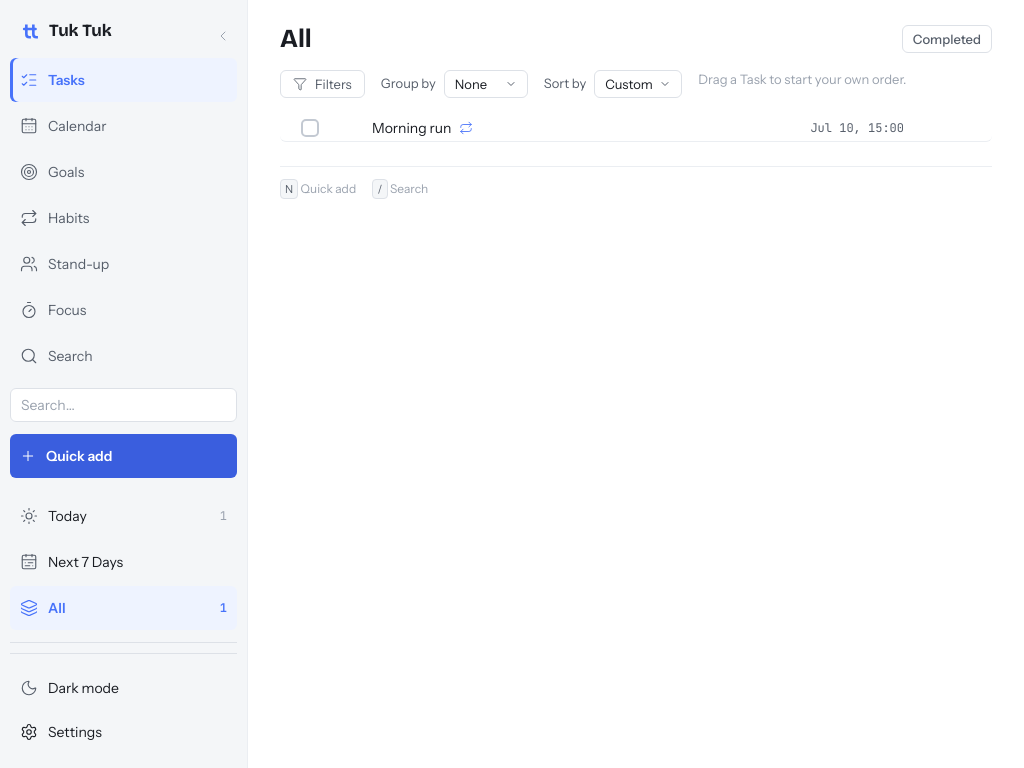
it: The completed view with occurrences › interleaves Completed Occurrences with completed tasks, newest first
Expected: the checkbox named "Complete Morning run" is shown, [301,119,319,137]
Click the button "Completed": (947, 39) [902,25,992,53]
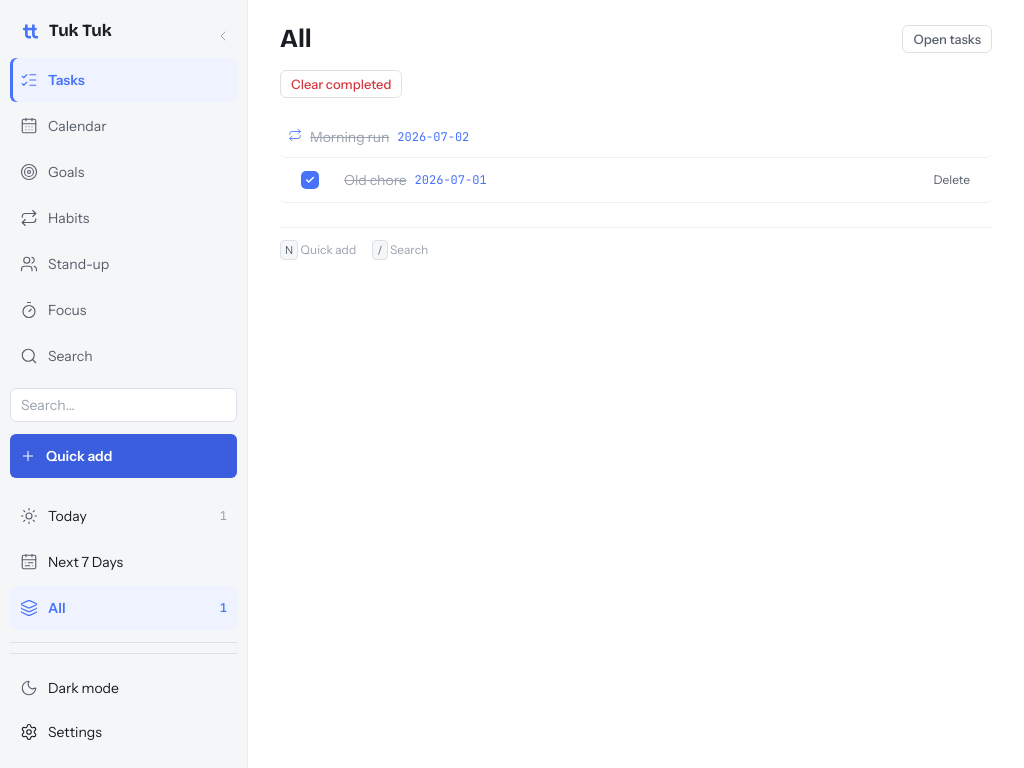
Expected: the list item "Morning run 2026-07-02" is shown, [280,118,992,158]
Expected: the list item "Old chore 2026-07-01 Delete" is shown, [280,158,992,203]
Expected: the checkbox named "Complete Old chore" is checked, [301,171,319,189]
